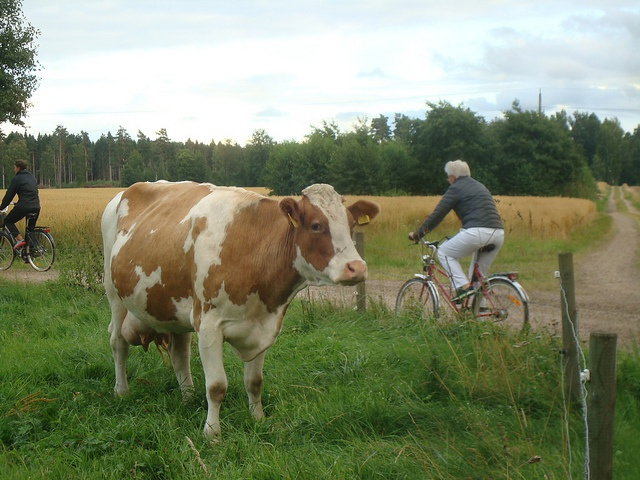non-vehicle: (394, 236, 529, 338), (18, 232, 51, 268)
